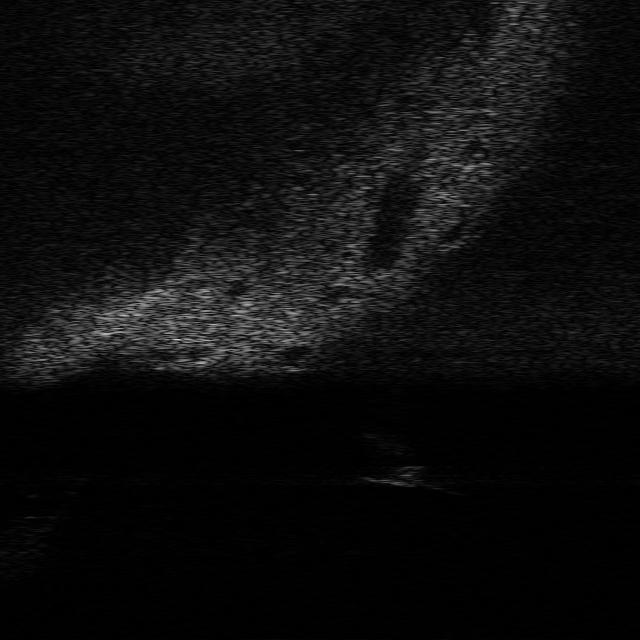cube: (360, 462, 428, 487)
